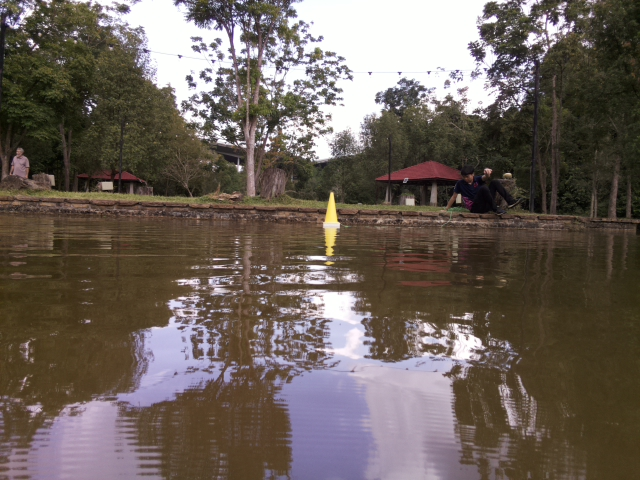checkpoint: (321, 190, 342, 229)
